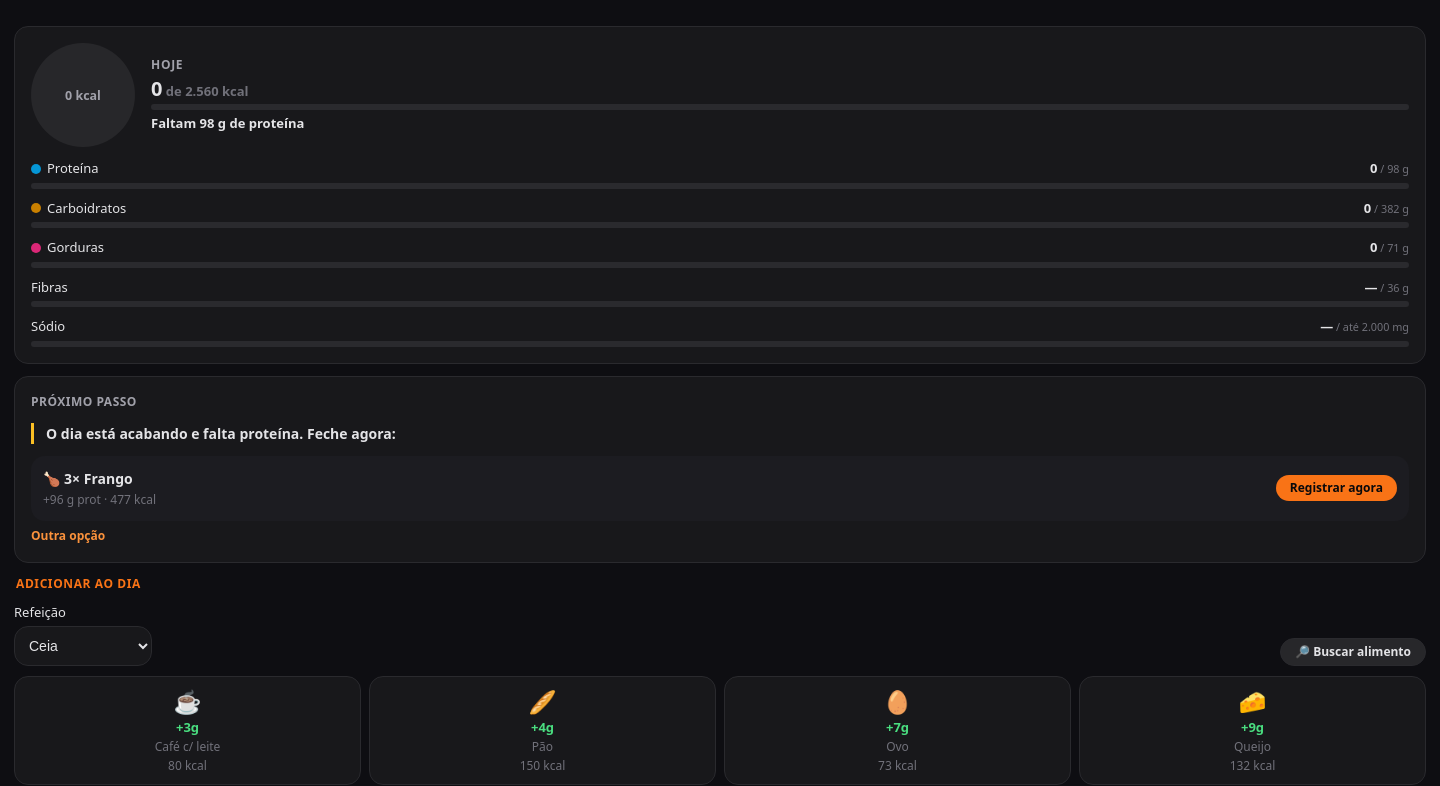
NutricaoPage › registrar um alimento cria o item no diário da refeição escolhida e remover tira dos totais
This screenshot has width=1440, height=786.
Expected: the text "Ovo" is shown, x1=886 y1=738 x2=909 y2=755
Select "Jantar" in the dropdown labelled "Refeição" at point(83, 646), box x1=14 y1=626 x2=152 y2=666
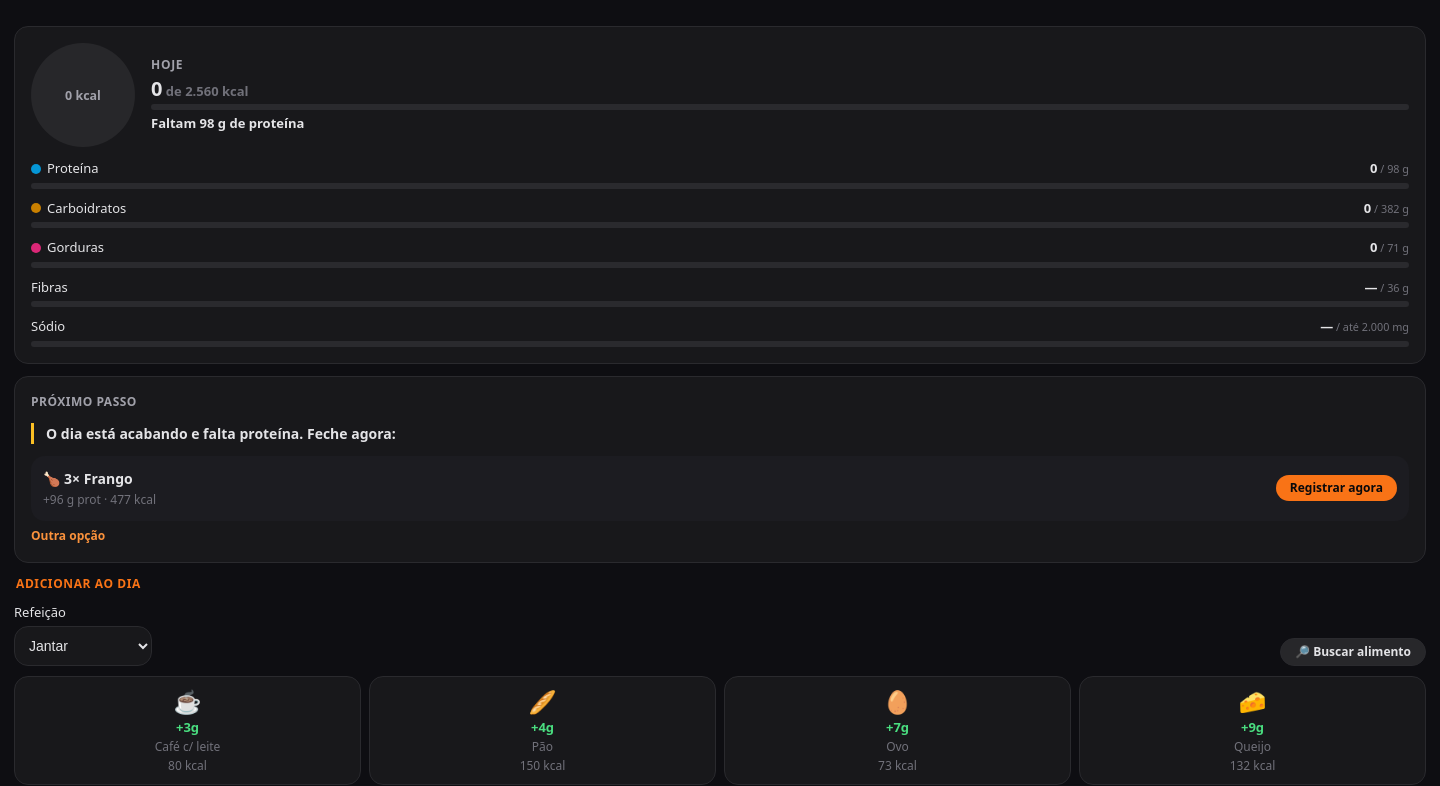
Click the text "Ovo" at point(897, 746), box x1=886 y1=738 x2=909 y2=755
(page scrolled)
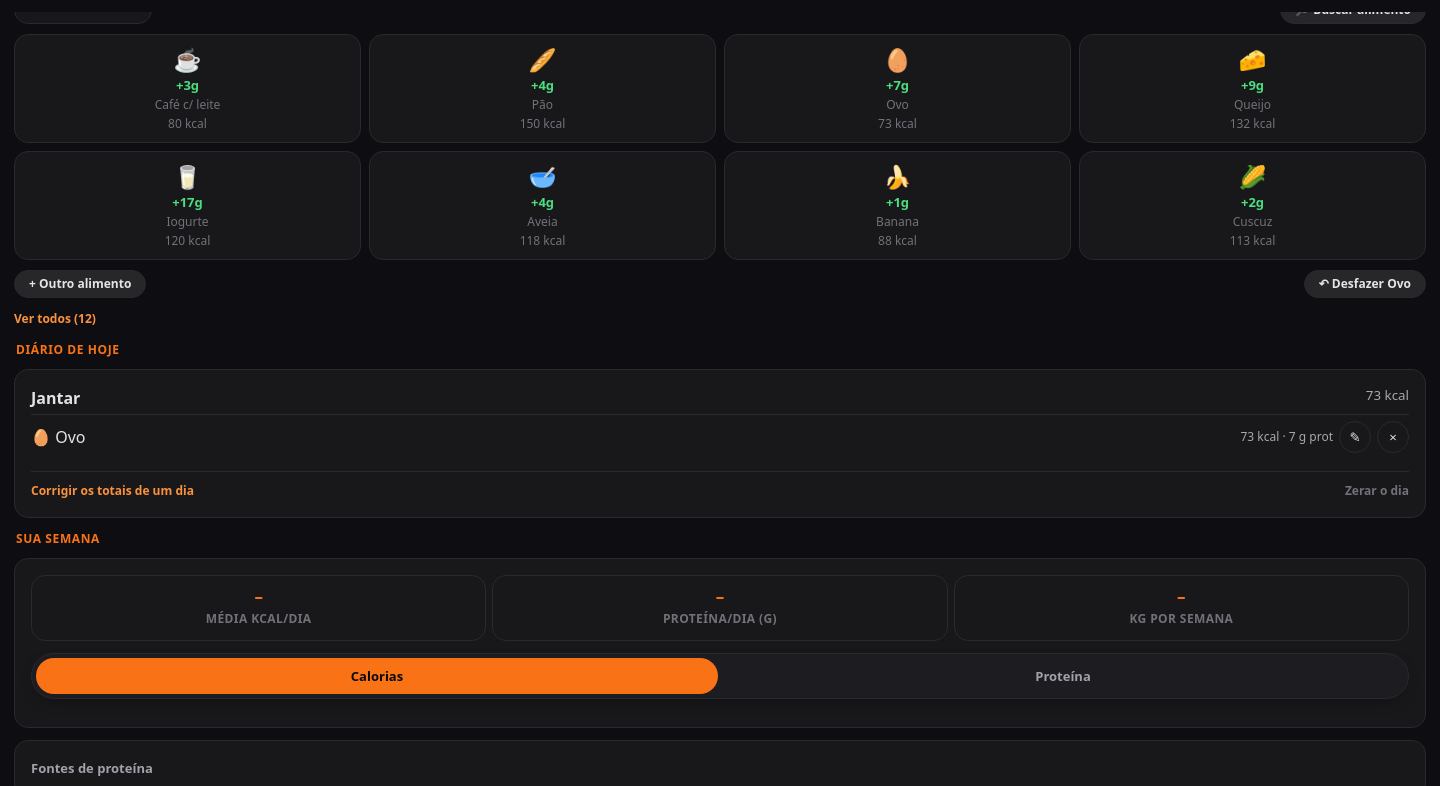
Expected: the element with class "meal-log" shows "Jantar", x1=31 y1=387 x2=80 y2=409
Expected: the element with class "meal-log" shows "Ovo", x1=55 y1=426 x2=85 y2=448
Click the button named "Remover \"Ovo\"" at point(1393, 437), box x1=1377 y1=421 x2=1409 y2=453
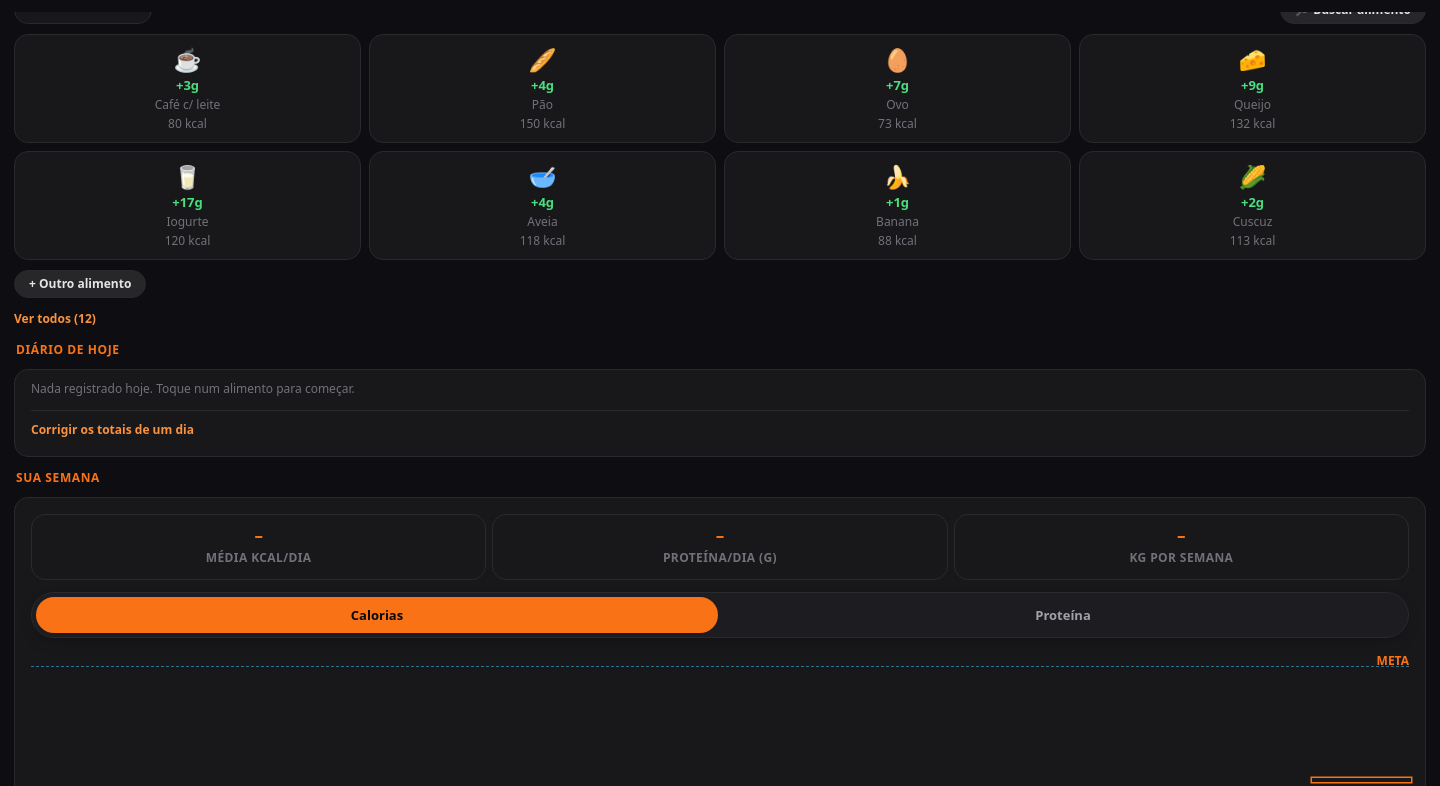
Expected: the text "Nada registrado hoje. Toque num alimento para começar." is shown, x1=31 y1=380 x2=355 y2=397
